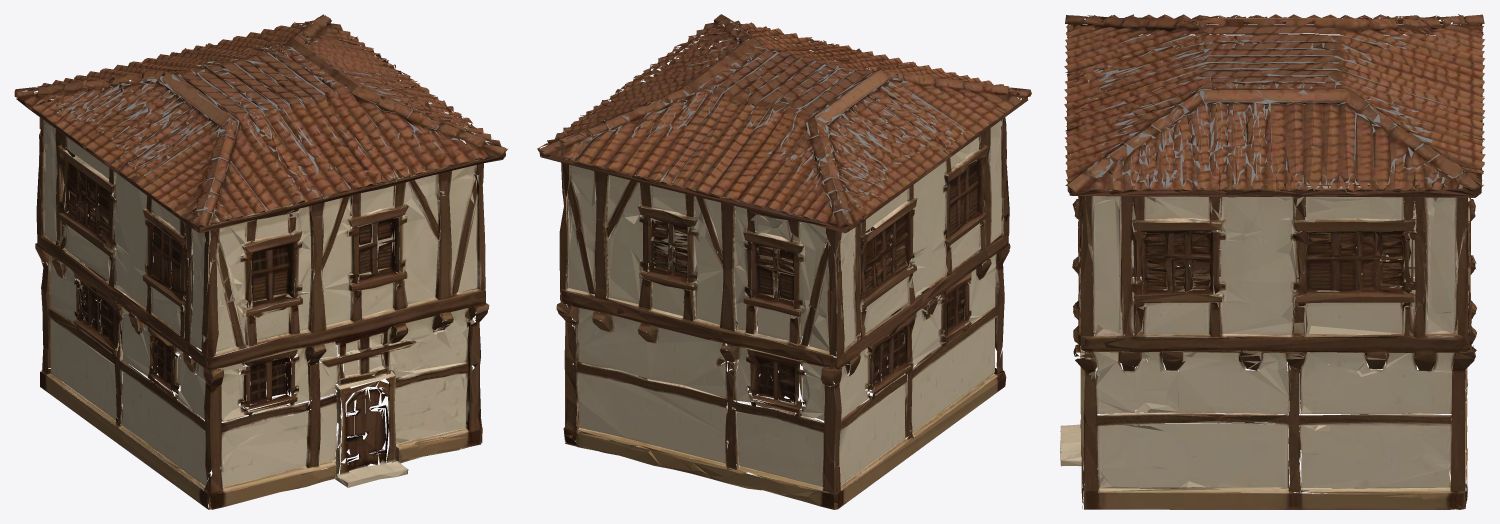
Rendered from building-facade.glb.
3 renders of one model, left to right at view 1: azimuth 30°, elevation 25°; view 2: azimuth 150°, elevation 25°; view 3: azimuth 270°, elevation 25°, orthographic. The views are drawn at different scales.
Visible parts, largest first — view 1: material; view 2: material; view 3: material.
Boxes of the visible parts, x1,y1,x2,y2 form: material: (14,14,507,509); material: (537,14,1031,509); material: (1060,14,1485,509).
Size of the model in its own units: 0.8988 by 0.9199 by 0.9222.
Materials: 1 (1 with a texture image).
